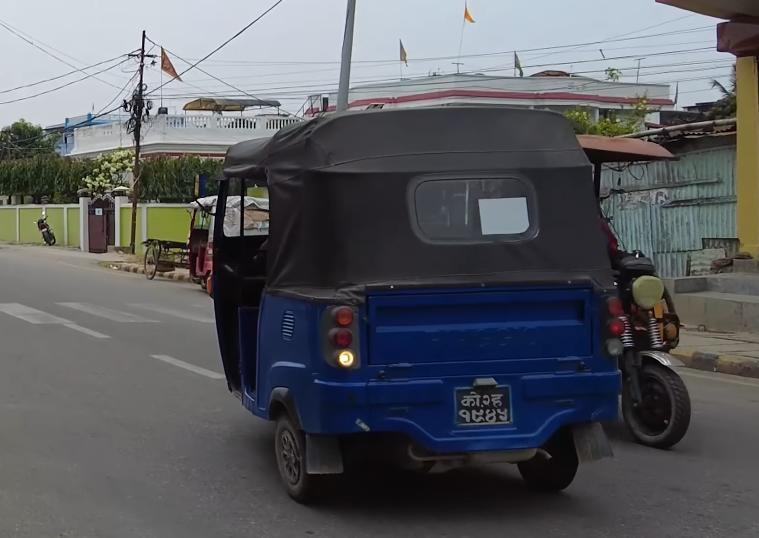auto_rickshaw: (199, 96, 625, 503)
